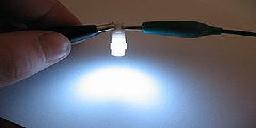LED: (61, 56, 183, 126)
